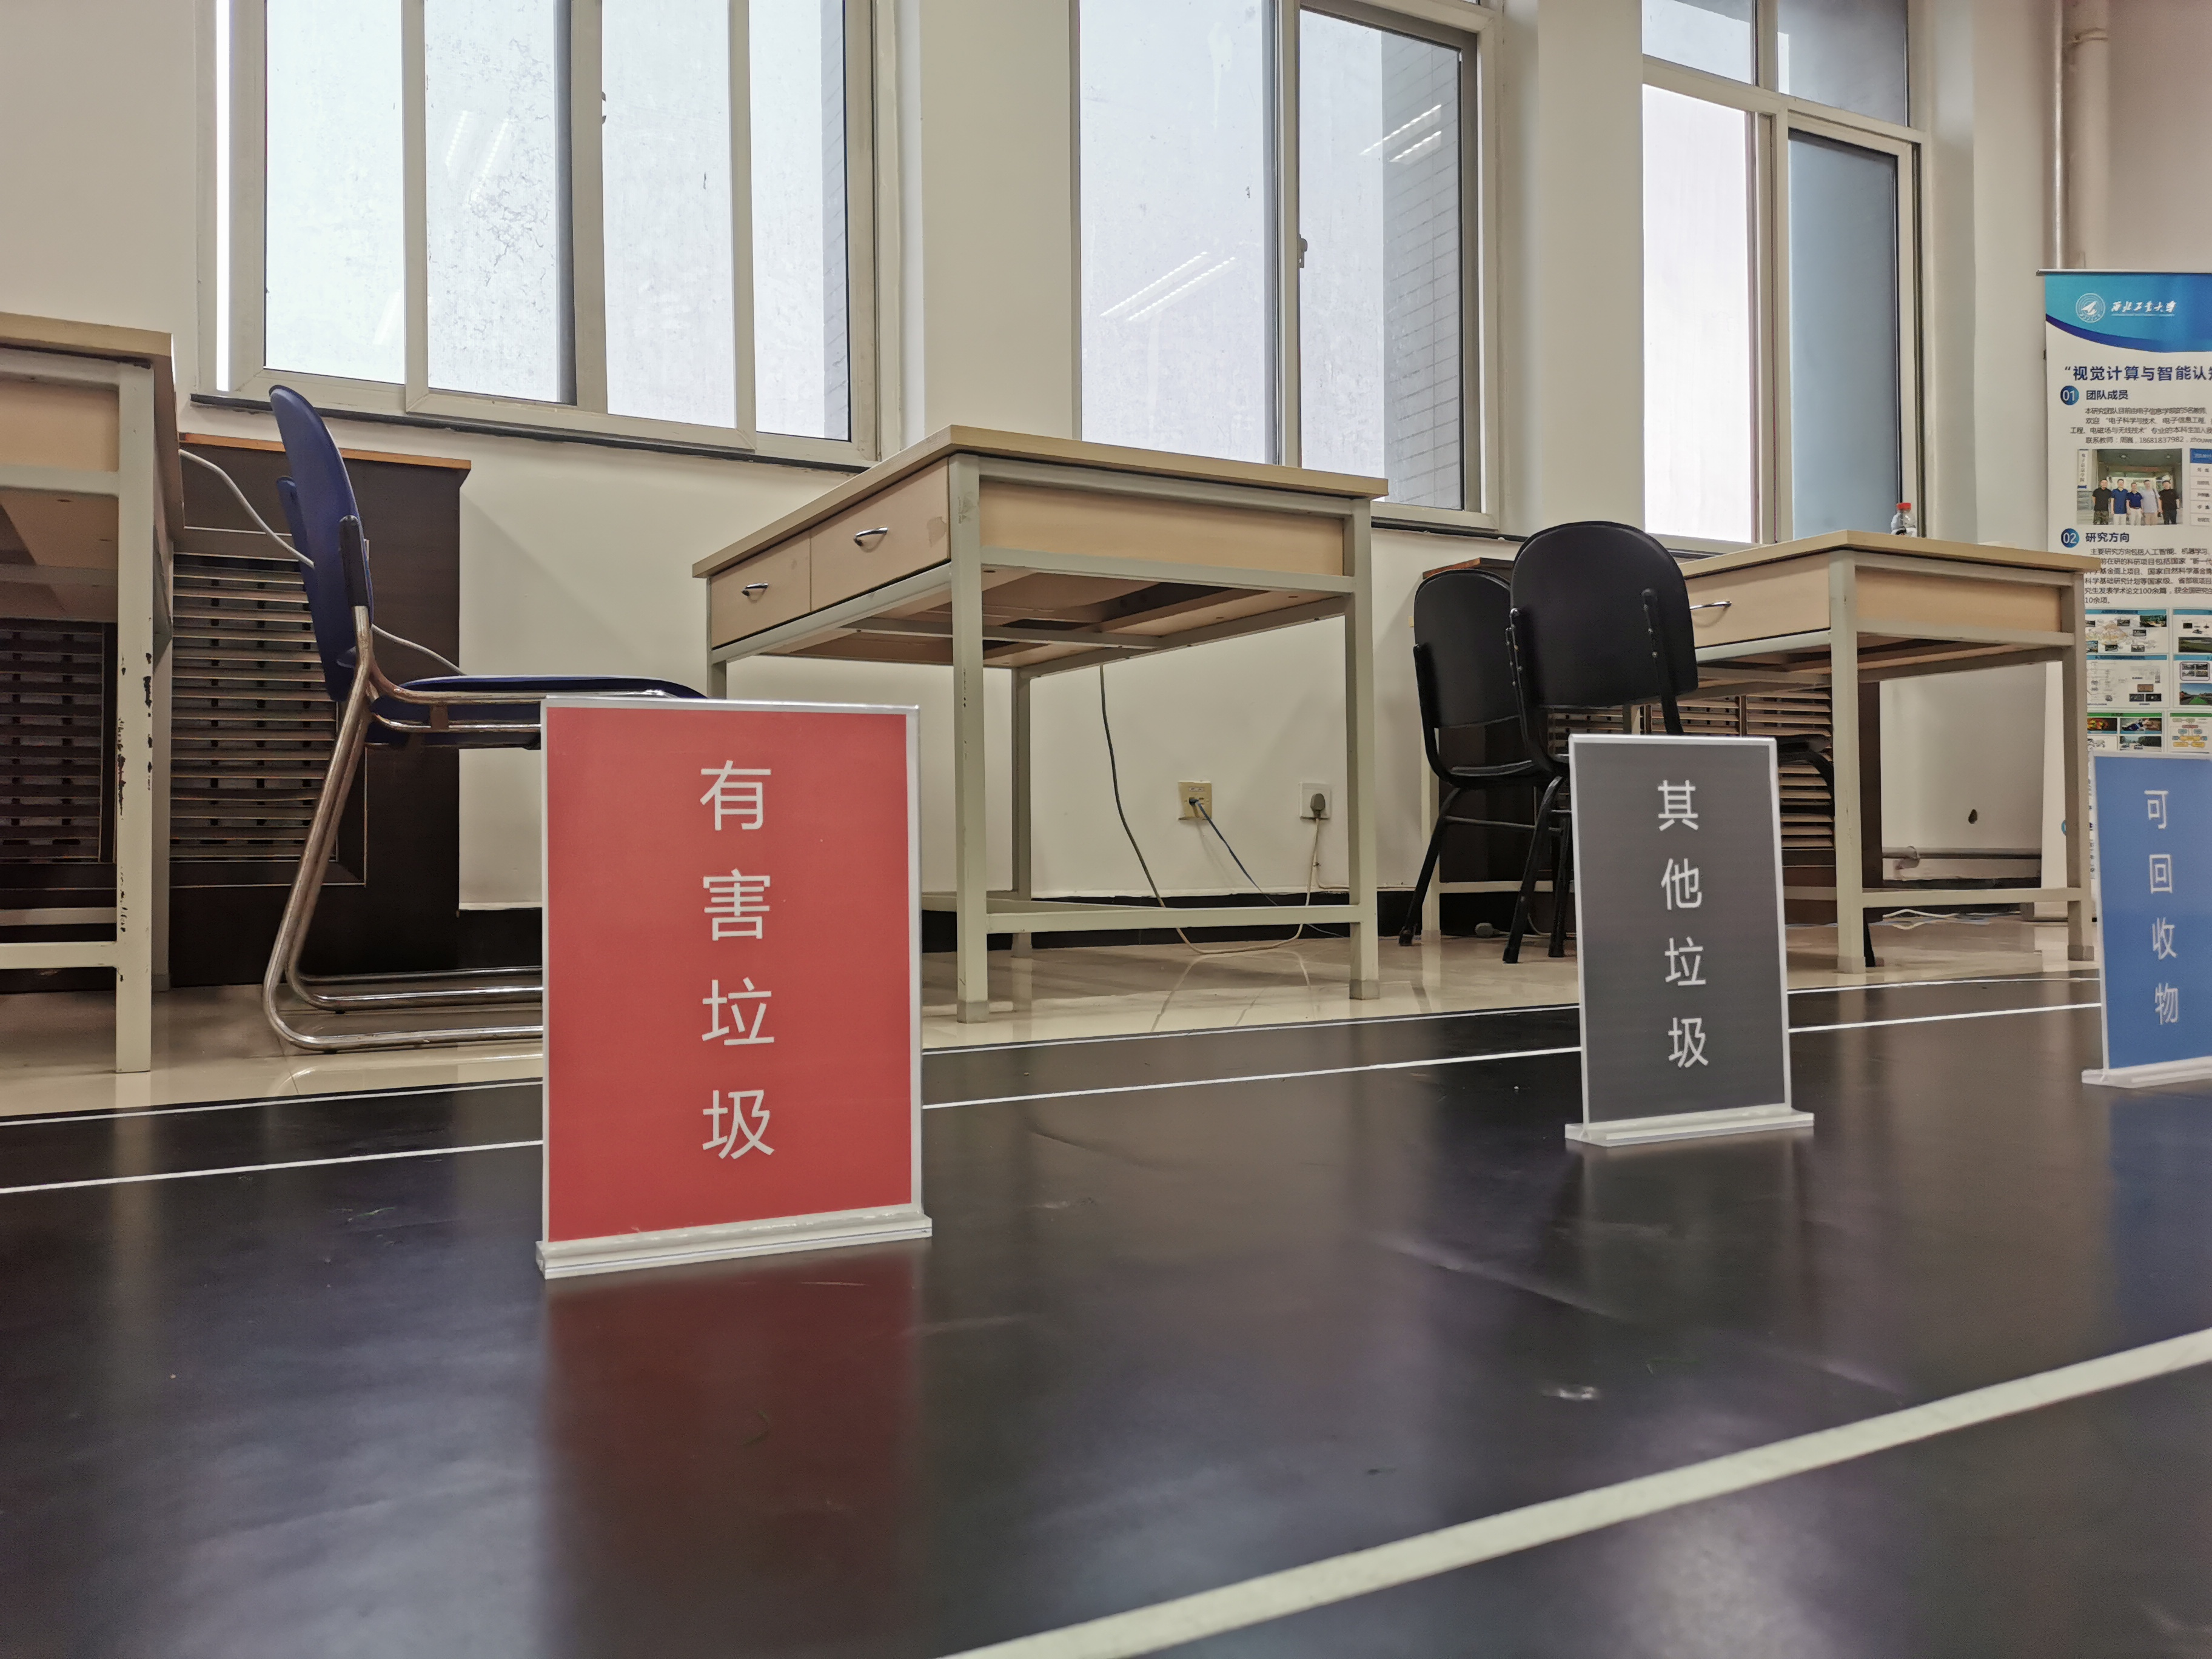black: (1590, 749, 1764, 1098)
blue: (2114, 775, 2212, 1047)
red: (568, 720, 904, 1199)
